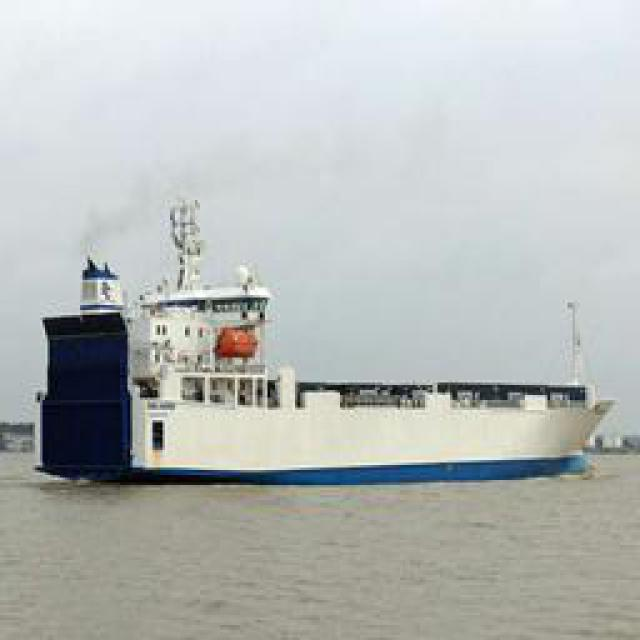Ship: (56, 225, 609, 485)
